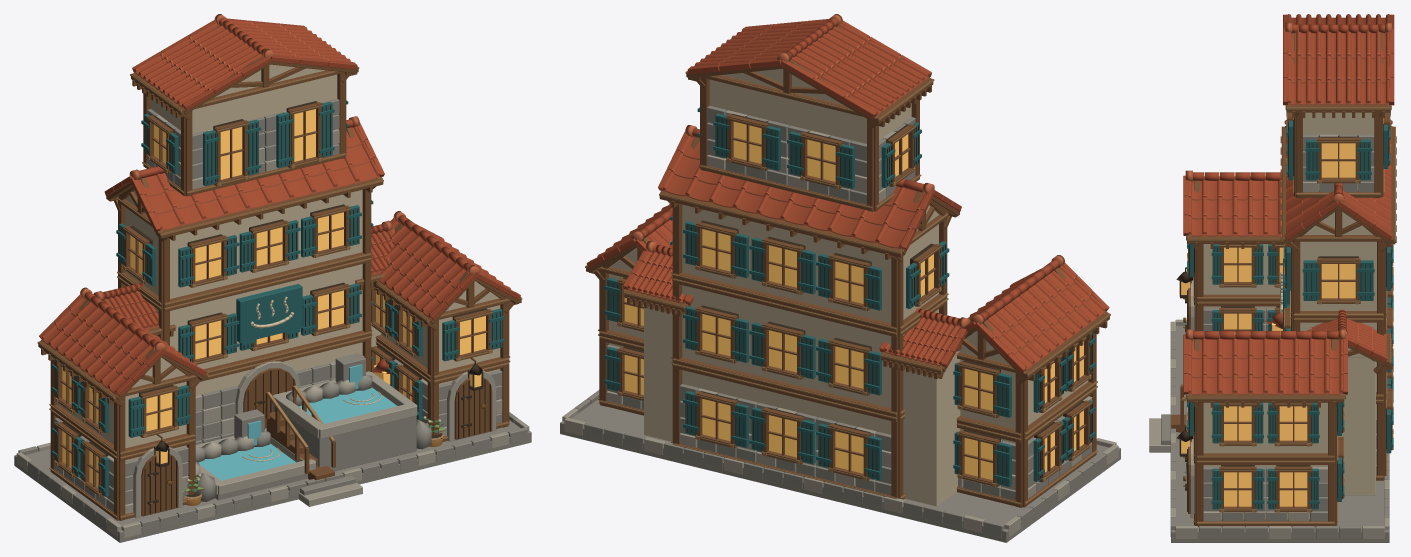
3 views of the same model, side by side, from view 1: azimuth 30°, elevation 25°; view 2: azimuth 150°, elevation 25°; view 3: azimuth 270°, elevation 25° (orthographic). The views are drawn at different scales.
Parts seen in each view (by area): view 1: alpine_onsen_3_geometry; view 2: alpine_onsen_3_geometry; view 3: alpine_onsen_3_geometry.
Boxes of the visible parts, box(x1,y1,x2,y2) form: alpine_onsen_3_geometry: box(14, 14, 531, 542); alpine_onsen_3_geometry: box(560, 14, 1120, 542); alpine_onsen_3_geometry: box(1149, 14, 1396, 542).
Bounding box in the file's own units: 2.03 × 1.89 × 1.02.
